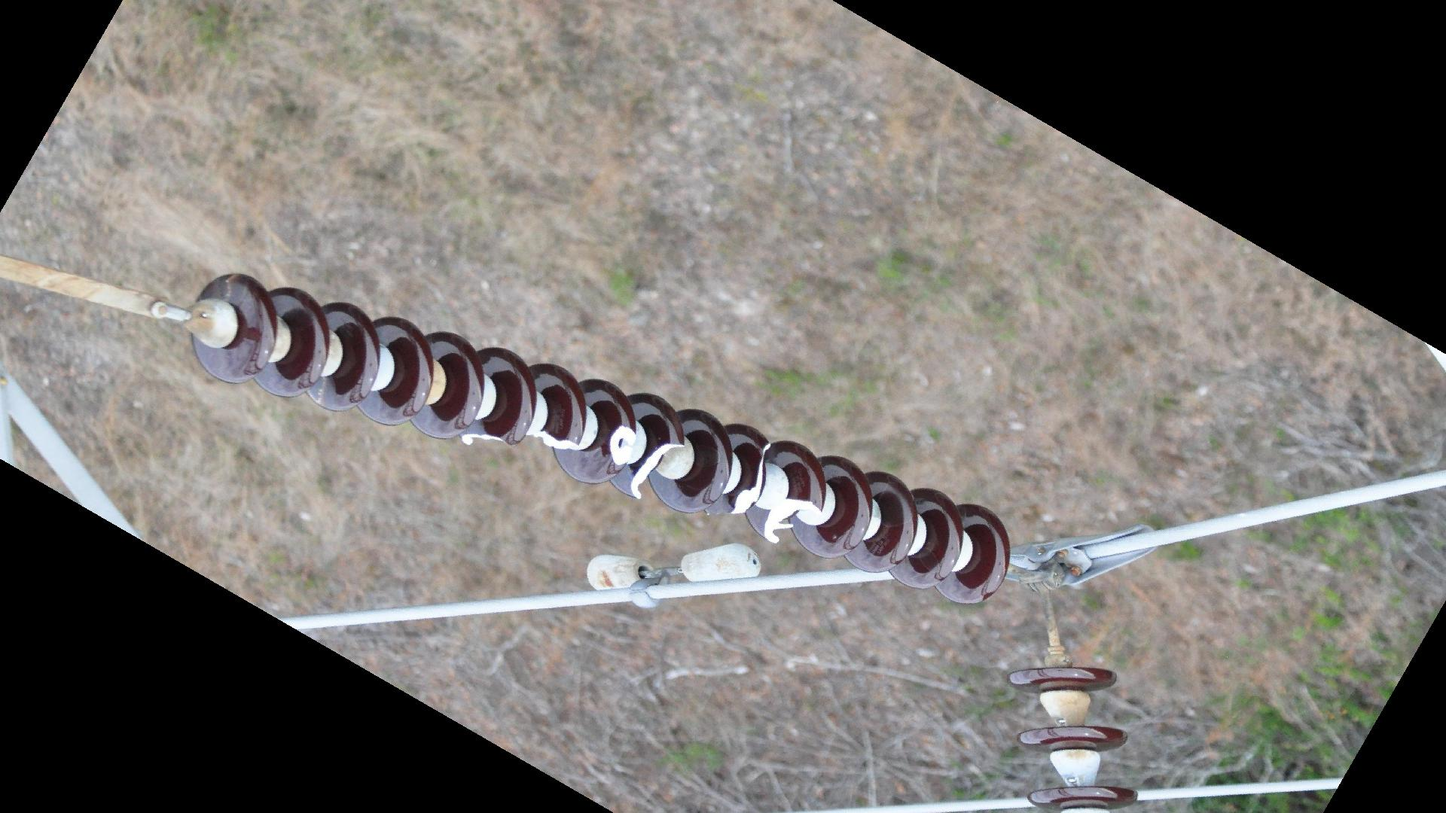insulator: (185, 269, 1014, 617), (1000, 658, 1142, 813)
insulator_breakage: (701, 437, 778, 520), (621, 437, 690, 503), (755, 492, 825, 548), (602, 418, 642, 477), (521, 425, 584, 453), (456, 425, 520, 450)
